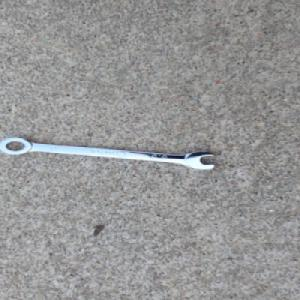Wrench: (2, 136, 217, 171)
